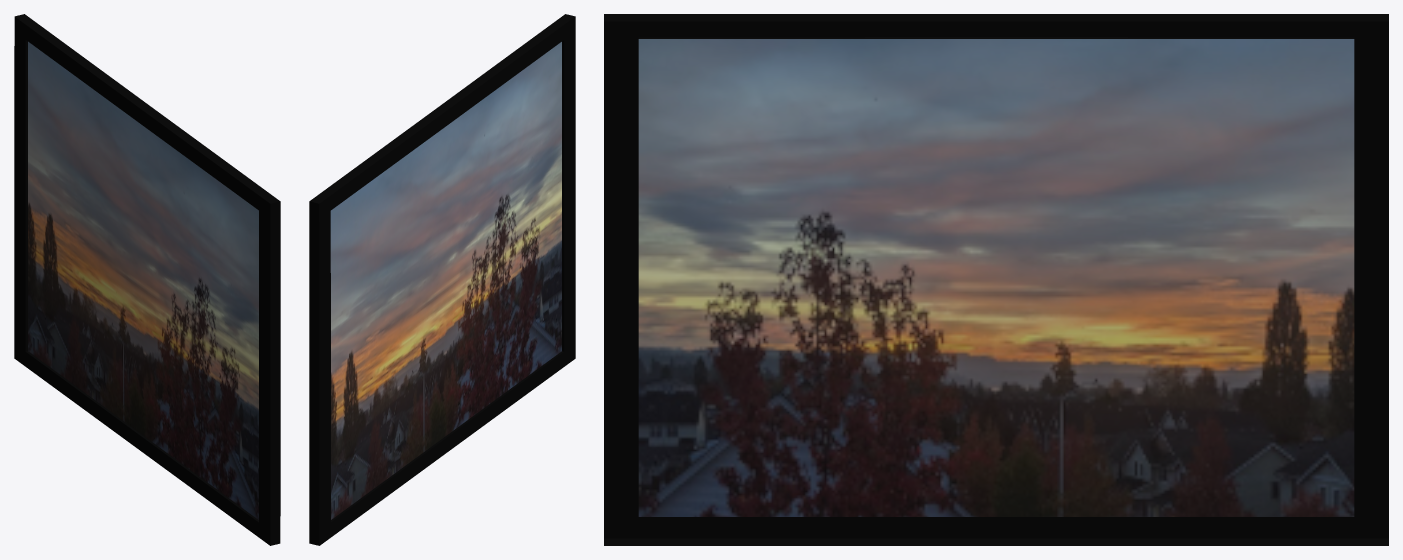
Rendered from Landscape.FBX.
3 renders of one model, left to right at view 1: azimuth 30°, elevation 25°; view 2: azimuth 150°, elevation 25°; view 3: azimuth 270°, elevation 25°, orthographic. The views are drawn at different scales.
Visible parts, largest first — view 1: Painting; view 2: Painting; view 3: Painting.
Boxes of the visible parts, box(x1,y1,x2,y2) form: Painting: box(14, 14, 280, 545); Painting: box(309, 14, 575, 545); Painting: box(604, 14, 1388, 545).
Bounding box in the file's own units: 0.0224 × 0.9678 × 0.7136.
1 material, 1 textured.
